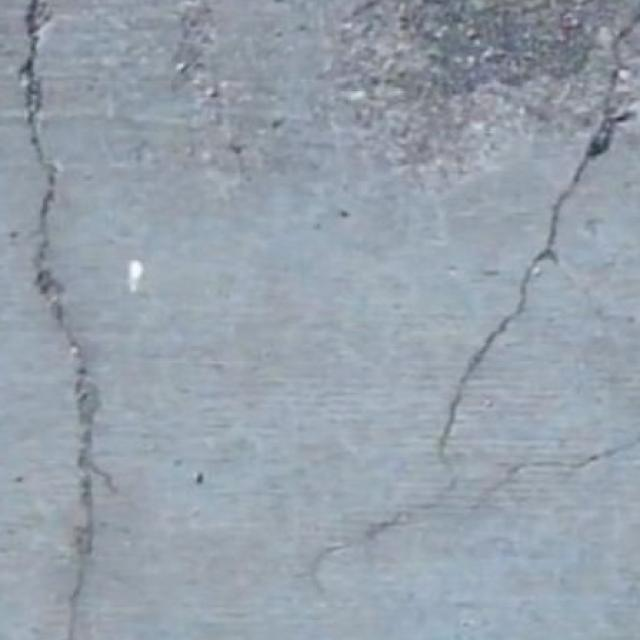Alligator Crack: (307, 10, 640, 607), (450, 433, 640, 549)
Vertical Crack: (15, 0, 117, 640)
